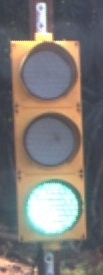Green: (4, 32, 89, 267)
